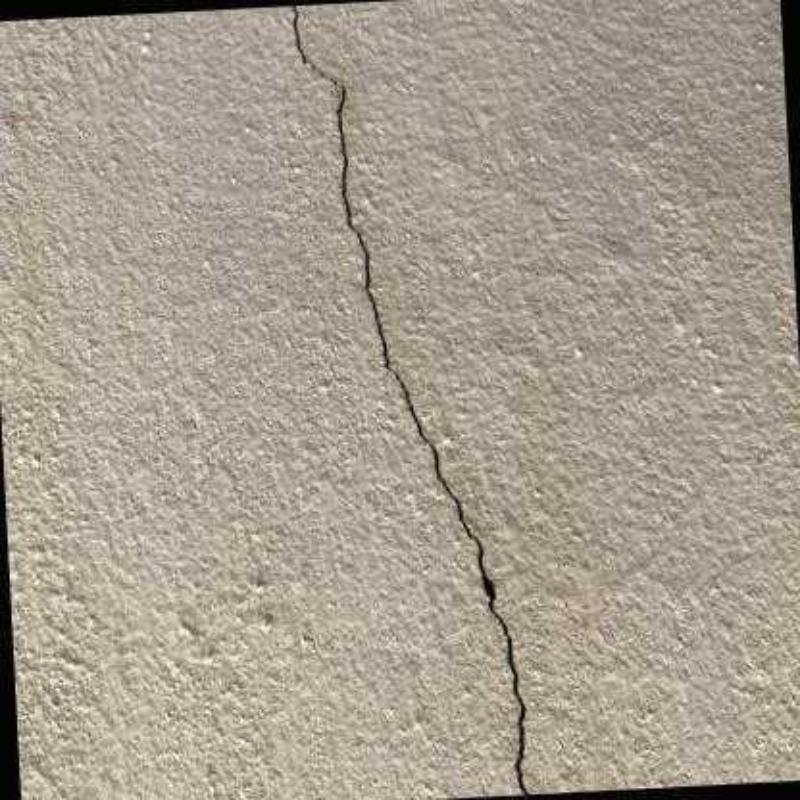crack: (273, 5, 540, 795)
